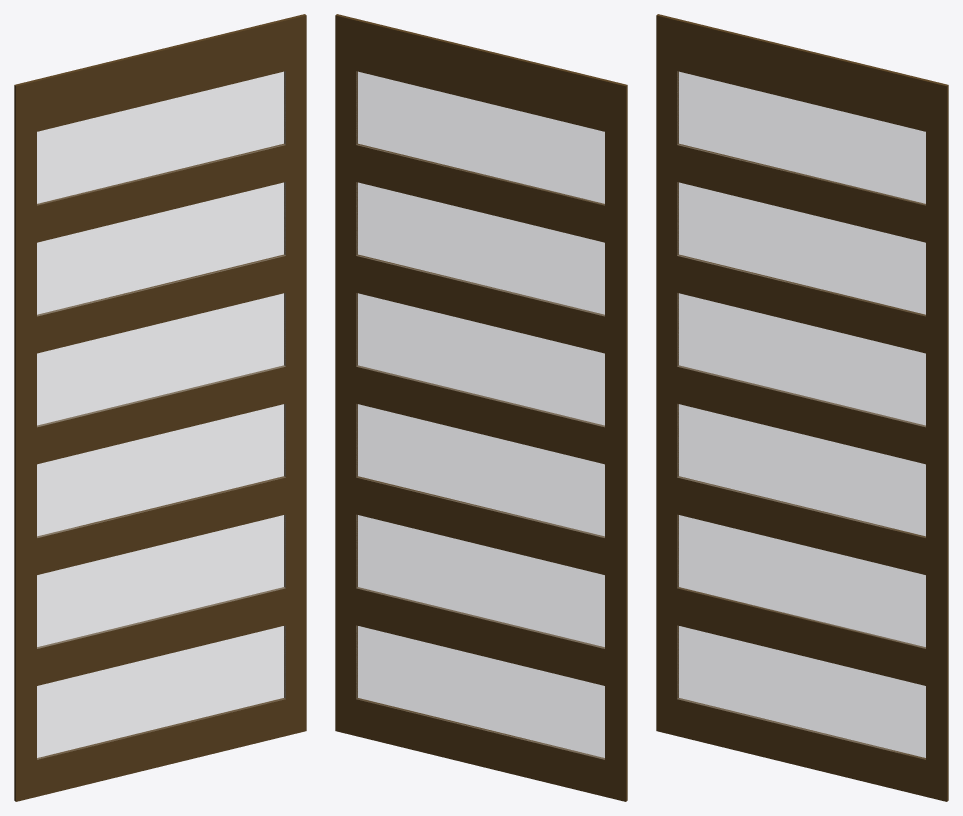
The model's file is Puerta.fbx.
3 views of the same model, side by side, from view 1: azimuth 30°, elevation 25°; view 2: azimuth 150°, elevation 25°; view 3: azimuth 330°, elevation 25° (orthographic).
Visible parts, largest first — view 1: pCube153; view 2: pCube153; view 3: pCube153.
Part boxes in pixels (x1=…): pCube153: x1=14, y1=14, x2=306, y2=801; pCube153: x1=335, y1=14, x2=627, y2=801; pCube153: x1=656, y1=14, x2=948, y2=801.
Bounding box in the file's own units: 11.39 × 26.81 × 0.129.
